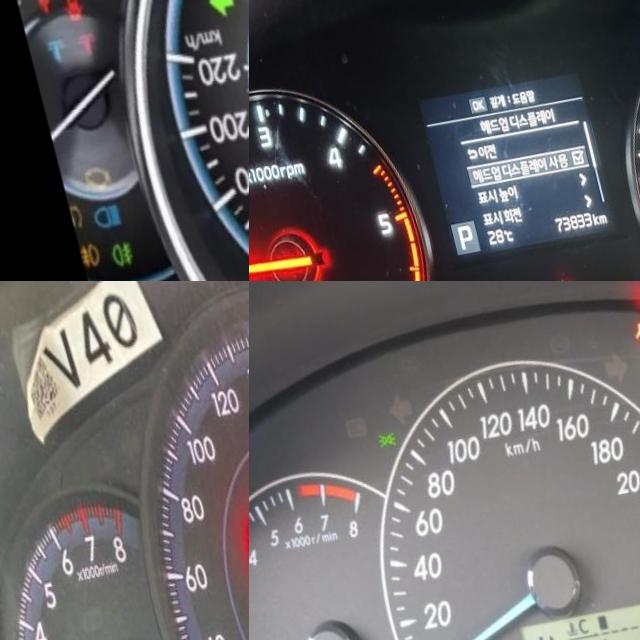High Engine Coolant Temperature: (68, 32, 94, 62)
Seat Belt: (224, 536, 249, 578), (26, 0, 47, 17)
